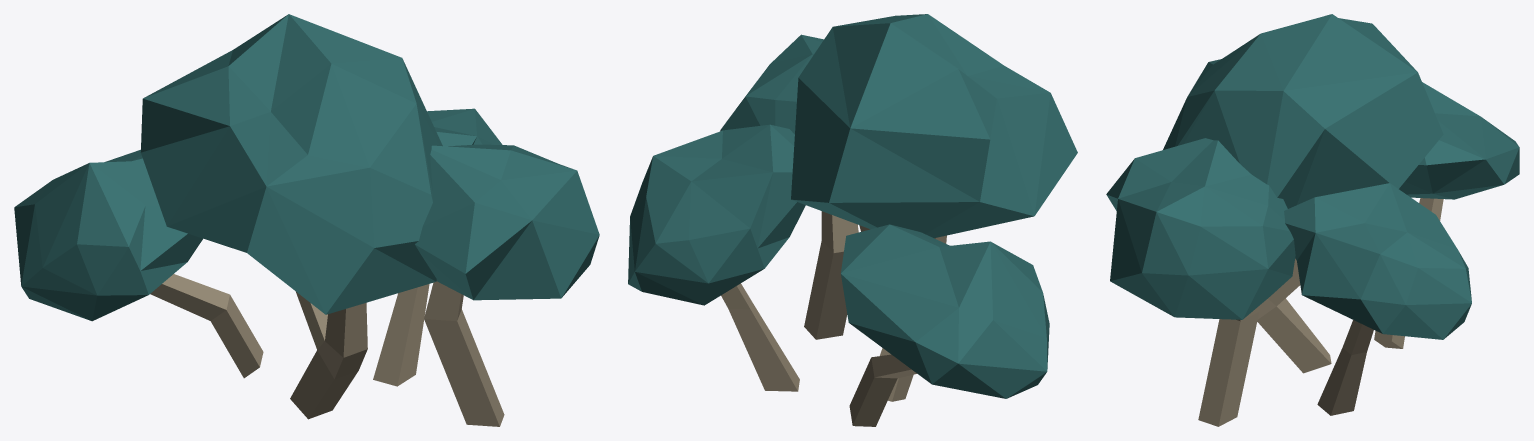
File: fbBush2.fbx
The picture shows the model from 3 angles, left to right: view 1: azimuth 30°, elevation 25°; view 2: azimuth 150°, elevation 25°; view 3: azimuth 270°, elevation 25°; orthographic projection. The views are drawn at different scales.
Visible parts, largest first — view 1: fbBush2; view 2: fbBush2; view 3: fbBush2.
Part boxes in pixels (x1,y1,x2,y2): fbBush2: (14,14,599,426); fbBush2: (628,14,1077,426); fbBush2: (1106,14,1519,426).
Size of the model in its own units: 191 by 160 by 172.
